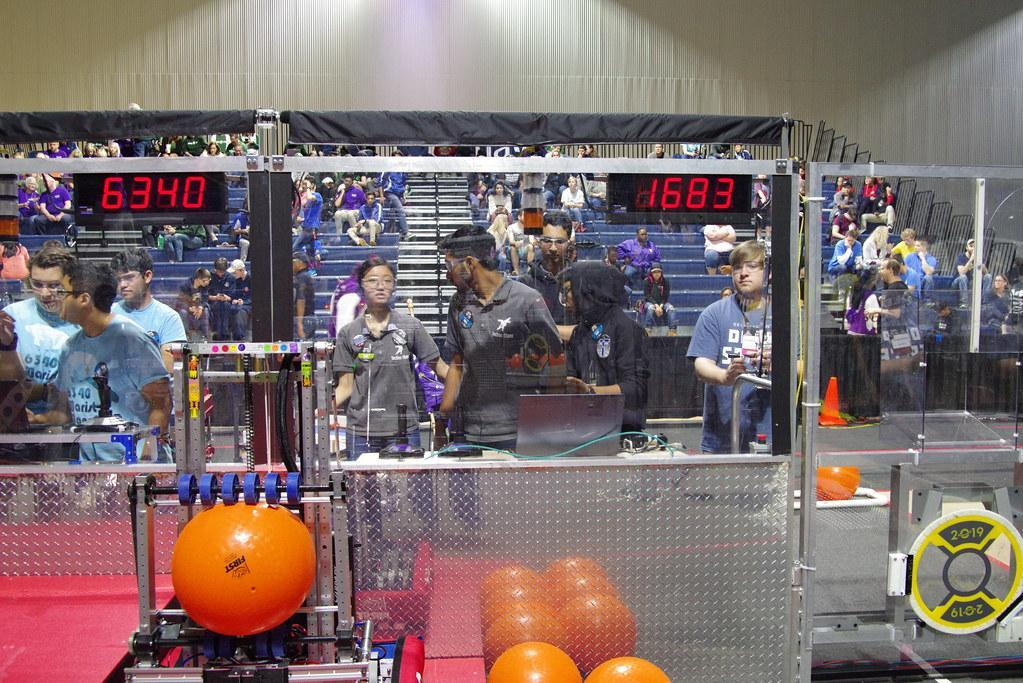robot: (101, 334, 438, 683)
